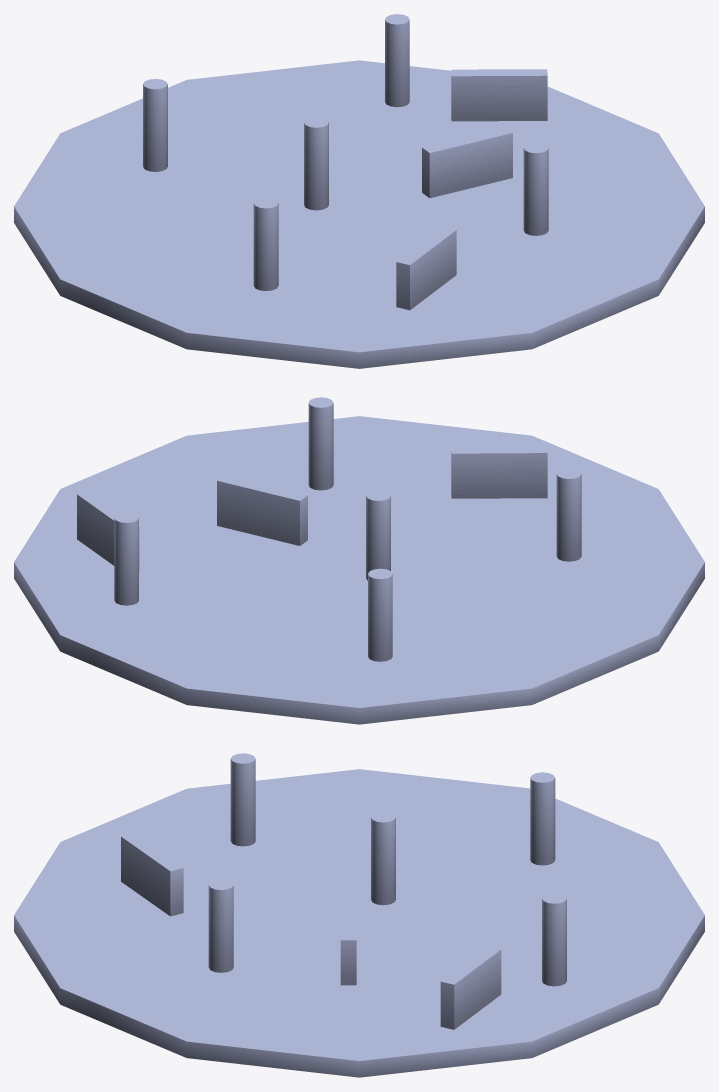
File: arena.glb
3 renders of one model, top to bottom at view 1: azimuth 30°, elevation 25°; view 2: azimuth 150°, elevation 25°; view 3: azimuth 270°, elevation 25°, orthographic.
Visible parts, largest first — view 1: shape-cylinder, shape-cube.002, shape-cube.001, shape-cube, shape-cylinder.004, shape-cylinder.005, shape-cylinder.001, shape-cylinder.003, shape-cylinder.002; view 2: shape-cylinder, shape-cube, shape-cube.001, shape-cylinder.004, shape-cylinder.005, shape-cylinder.002, shape-cylinder.003, shape-cube.002, shape-cylinder.001; view 3: shape-cylinder, shape-cube, shape-cube.002, shape-cylinder.005, shape-cylinder.004, shape-cylinder.002, shape-cylinder.003, shape-cylinder.001, shape-cube.001.
Boxes of the visible parts, left/top/right/bottom form: shape-cylinder: left=14, top=60, right=704, bottom=368; shape-cube.002: left=451, top=69, right=547, bottom=121; shape-cube.001: left=422, top=127, right=512, bottom=197; shape-cube: left=396, top=226, right=456, bottom=310; shape-cylinder.004: left=253, top=198, right=278, bottom=290; shape-cylinder.005: left=523, top=143, right=548, bottom=235; shape-cylinder.001: left=304, top=117, right=328, bottom=210; shape-cylinder.003: left=385, top=14, right=409, bottom=107; shape-cylinder.002: left=143, top=79, right=167, bottom=171; shape-cylinder: left=14, top=416, right=704, bottom=724; shape-cube: left=451, top=446, right=547, bottom=498; shape-cube.001: left=217, top=475, right=307, bottom=545; shape-cylinder.004: left=556, top=468, right=581, bottom=561; shape-cylinder.005: left=308, top=397, right=333, bottom=490; shape-cylinder.002: left=368, top=568, right=392, bottom=661; shape-cylinder.003: left=114, top=512, right=138, bottom=605; shape-cube.002: left=77, top=491, right=139, bottom=570; shape-cylinder.001: left=366, top=490, right=390, bottom=580; shape-cylinder: left=14, top=769, right=704, bottom=1077; shape-cube: left=121, top=833, right=183, bottom=916; shape-cube.002: left=440, top=946, right=501, bottom=1029; shape-cylinder.005: left=208, top=879, right=233, bottom=972; shape-cylinder.004: left=230, top=753, right=255, bottom=846; shape-cylinder.002: left=530, top=772, right=555, bottom=865; shape-cylinder.003: left=542, top=893, right=566, bottom=986; shape-cylinder.001: left=371, top=812, right=395, bottom=905; shape-cube.001: left=340, top=899, right=356, bottom=985.
Size of the model in its own units: 37.88 by 6 by 37.88.
2 materials, 2 textured.
